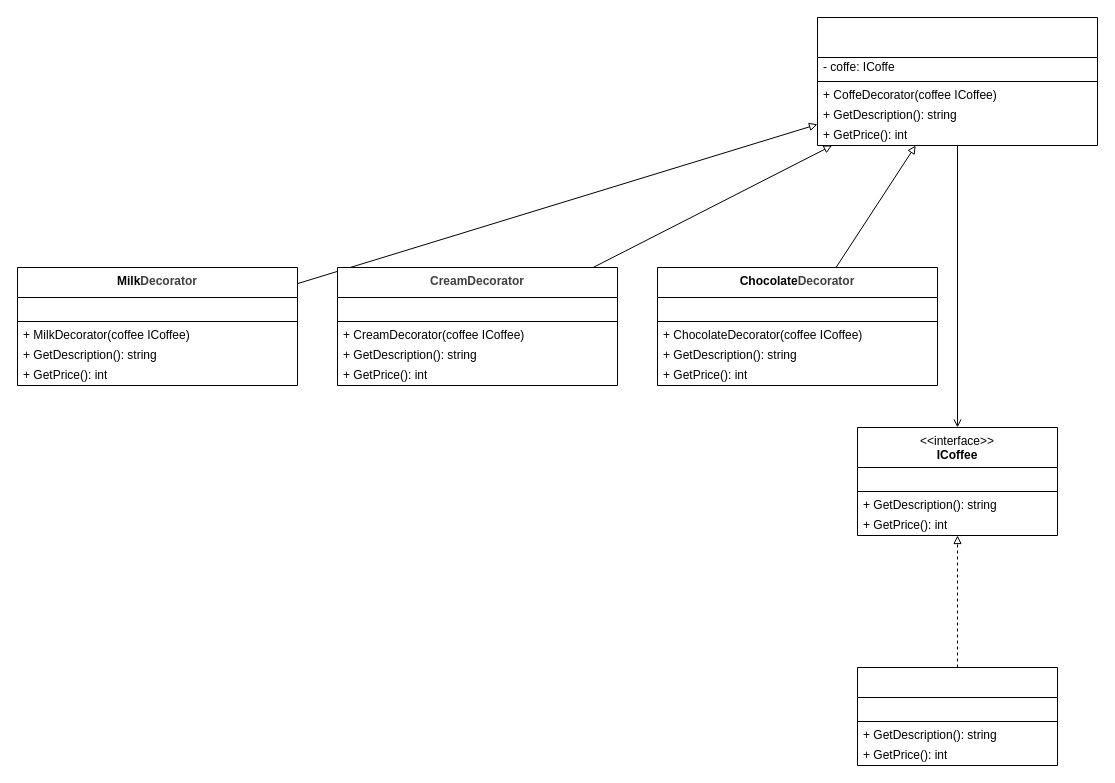
This 1115x783 diagram has some shape labels left out. The box of each missing label's shape, as (x1, y1, x2, y2) in pixels:
Coff eeDecorator {abstract}: (816, 16, 1098, 146)
Coffee: (856, 666, 1058, 766)
